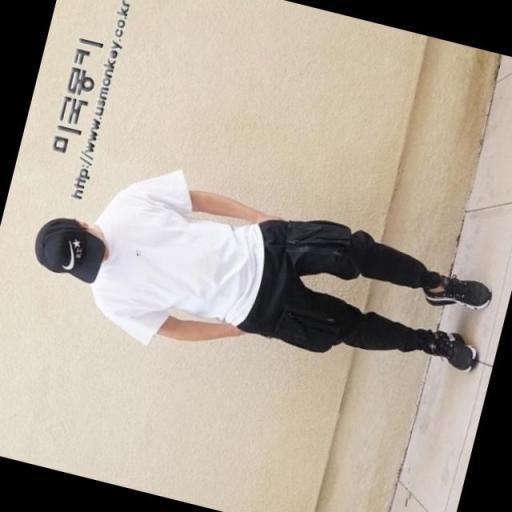Nike: (58, 236, 81, 275)
